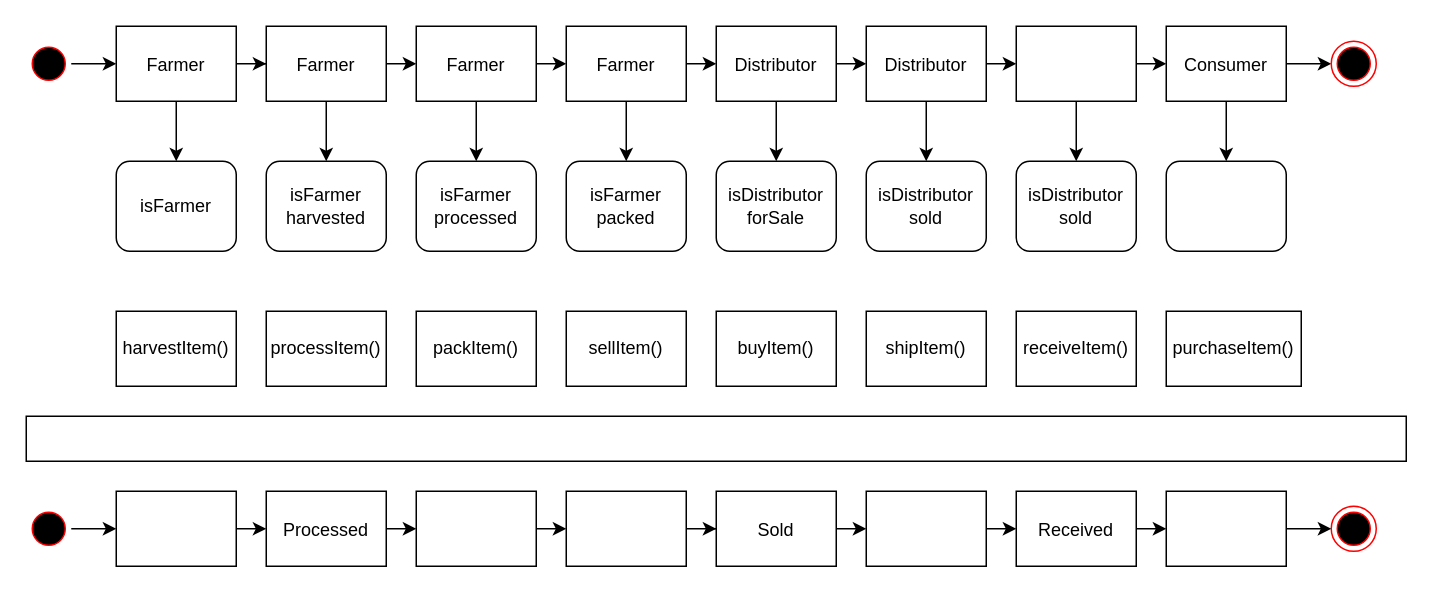
Some shapes in this 1433 by 593 pixel diagram are drawn without their labels. Each missing label, with the centre of its shape:
"Coffee State" goes at (x=715, y=438).
"For Sale" goes at (x=625, y=528).
"Harvested" goes at (x=175, y=528).
"isConsumer received" goes at (x=1225, y=205).
"Packed" goes at (x=475, y=528).
"Purchased" goes at (x=1225, y=528).
"Retailer" goes at (x=1075, y=63).
"Shipped" goes at (x=925, y=528).
